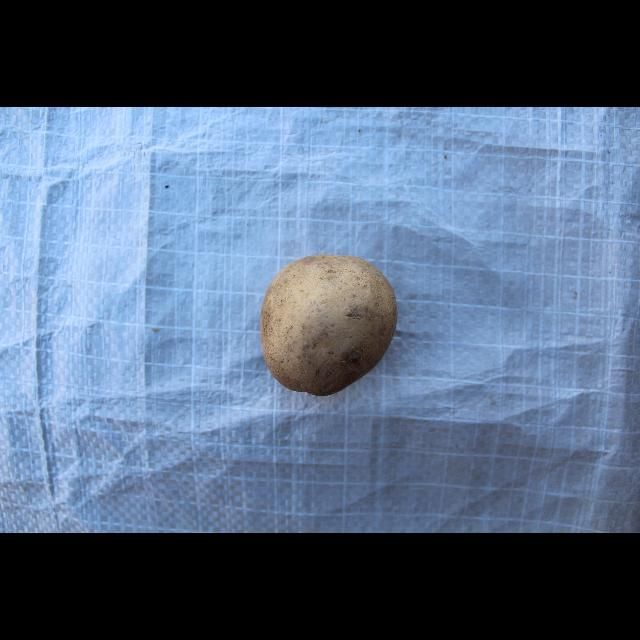Diseased-fungal potato: (258, 252, 400, 401)
